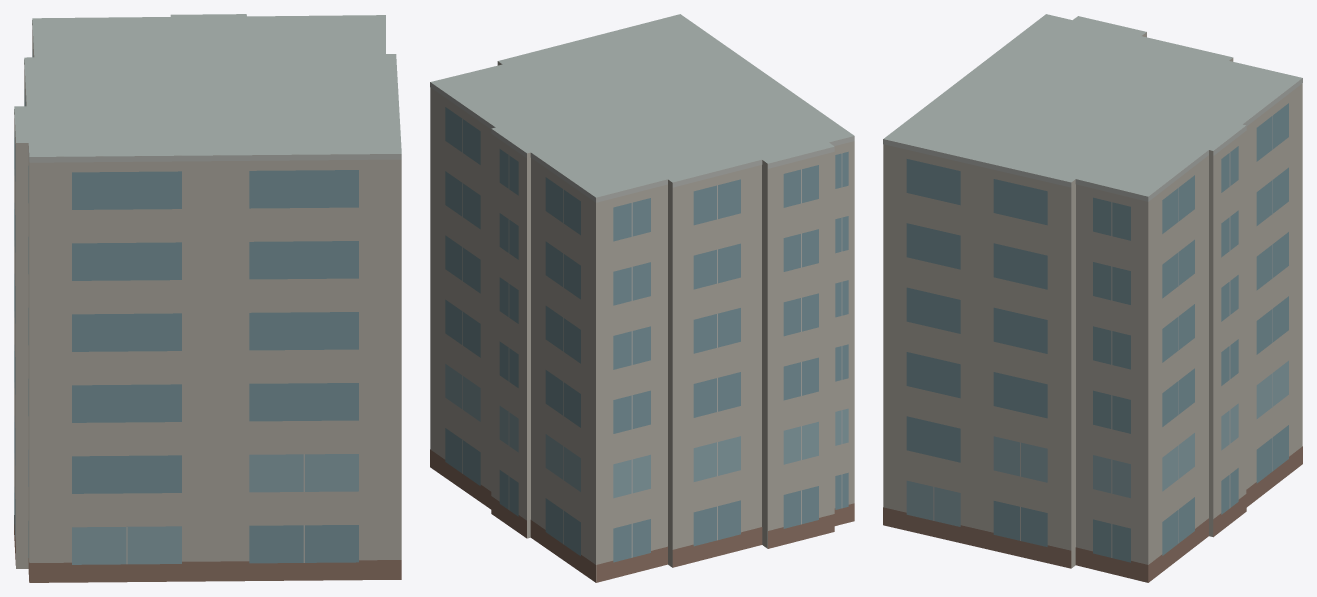
Rendered from survey-upis-32563167.glb.
3 renders of one model, left to right at view 1: azimuth 30°, elevation 25°; view 2: azimuth 150°, elevation 25°; view 3: azimuth 270°, elevation 25°, orthographic. The views are drawn at different scales.
Visible parts, largest first — view 1: survey-upis-32563167.tmp; view 2: survey-upis-32563167.tmp; view 3: survey-upis-32563167.tmp.
Boxes of the visible parts, x1,y1,x2,y2 form: survey-upis-32563167.tmp: (14, 14, 401, 582); survey-upis-32563167.tmp: (430, 14, 854, 582); survey-upis-32563167.tmp: (883, 14, 1302, 582).
Size of the model in its own units: 18.58 by 18.3 by 18.03.
